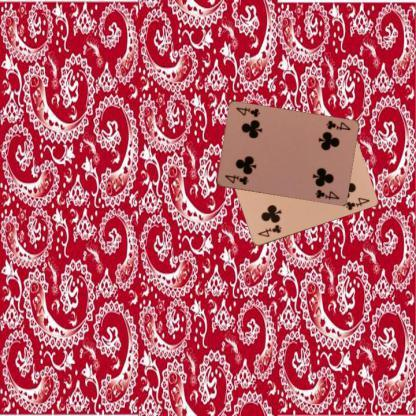4c: (254, 222, 282, 238), (222, 172, 249, 186), (324, 118, 351, 132)
